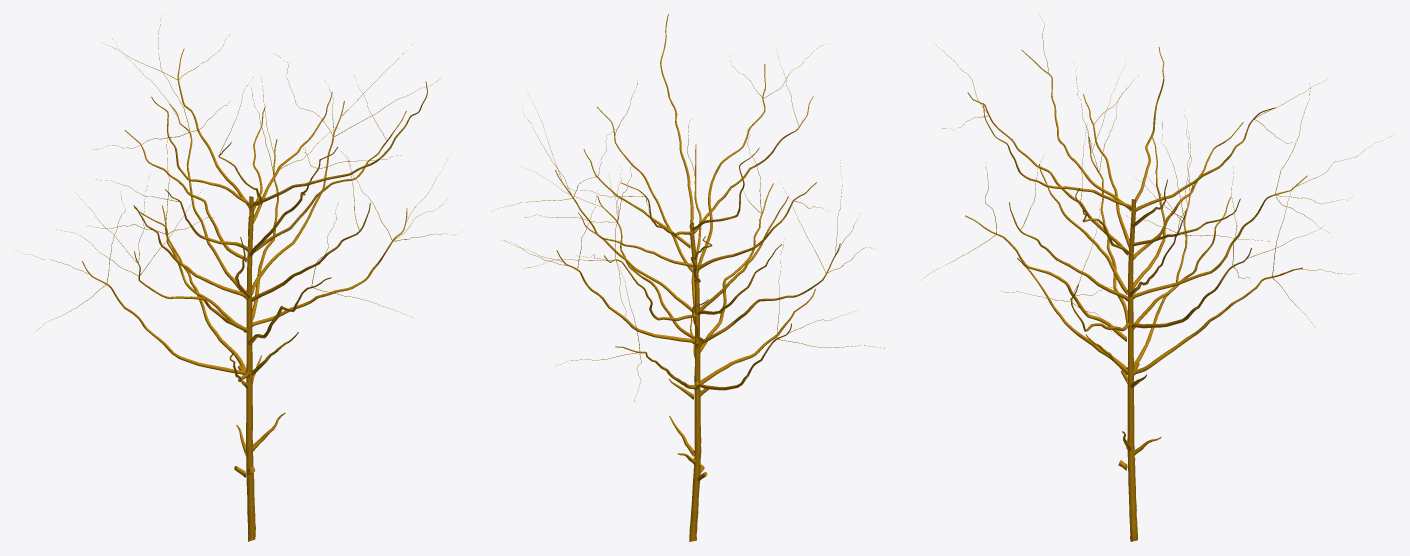
Rendered from LOD1Arbre2.gltf.
3 views of the same model, side by side, from view 1: azimuth 30°, elevation 25°; view 2: azimuth 150°, elevation 25°; view 3: azimuth 270°, elevation 25° (orthographic). The views are drawn at different scales.
Parts seen in each view (by area): view 1: grand_arbre3_LOD1; view 2: grand_arbre3_LOD1; view 3: grand_arbre3_LOD1.
Boxes of the visible parts, x1,y1,x2,y2 form: grand_arbre3_LOD1: (17,20,454,541); grand_arbre3_LOD1: (493,14,884,541); grand_arbre3_LOD1: (920,14,1390,541).
Bounding box in the file's own units: 18.98 × 22.38 × 19.15.
